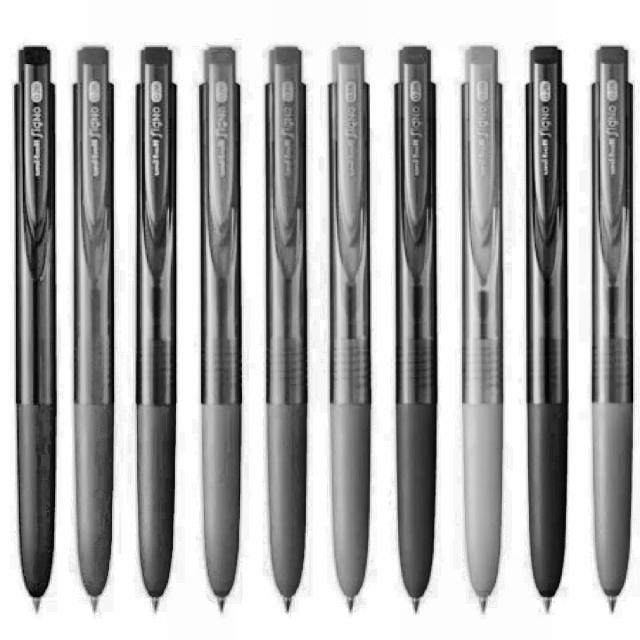Pen: (582, 34, 639, 626), (189, 39, 247, 616), (516, 42, 572, 616), (387, 39, 441, 613), (126, 42, 180, 613), (259, 39, 311, 617), (10, 38, 60, 617), (69, 41, 119, 612), (457, 44, 505, 622), (324, 41, 371, 613)
